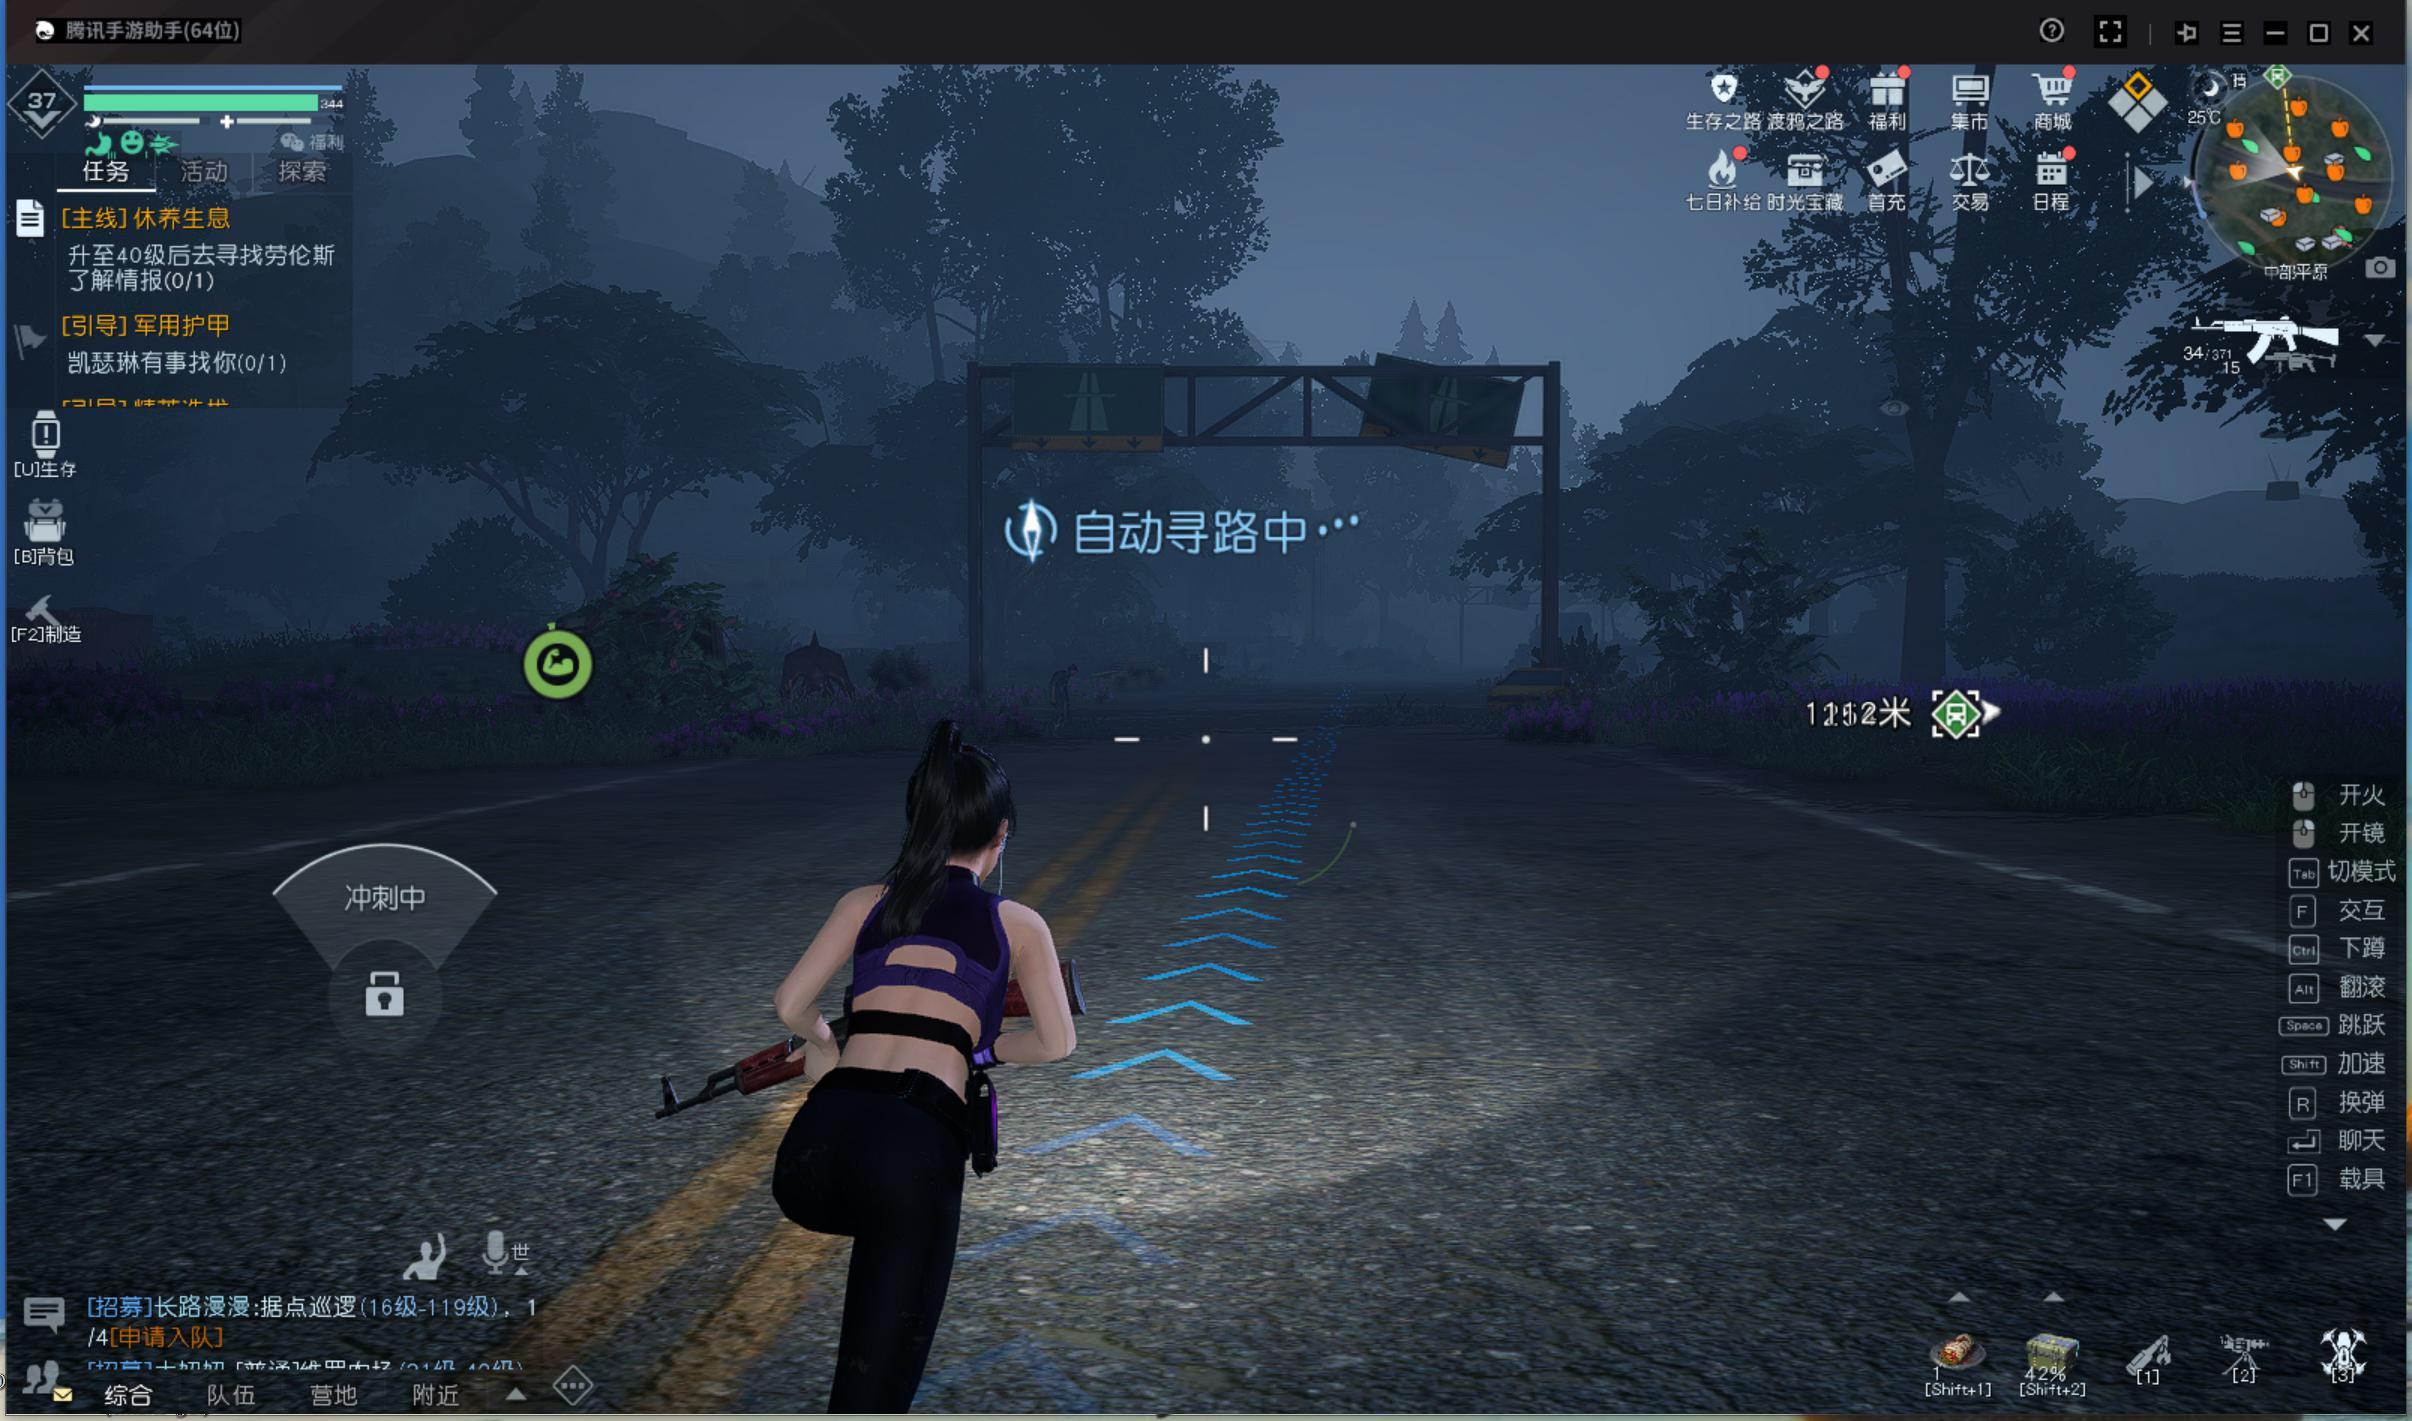tree: (1886, 425, 1959, 690)
